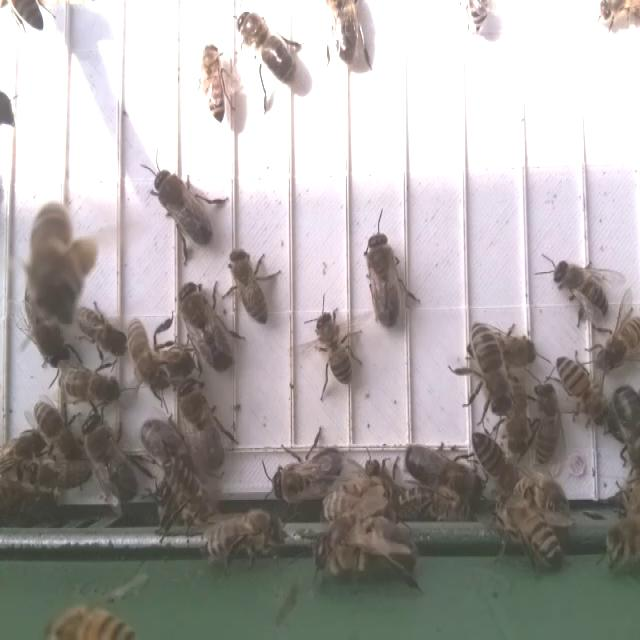Drone: (175, 274, 236, 376), (151, 164, 217, 253), (401, 438, 486, 507), (79, 410, 140, 506), (179, 371, 230, 481), (233, 6, 298, 90), (268, 444, 345, 505), (366, 228, 404, 333)
Worker: (469, 319, 513, 422), (553, 355, 610, 428), (122, 315, 171, 399), (227, 246, 274, 327), (551, 259, 607, 320), (58, 360, 122, 411), (315, 306, 353, 390), (470, 430, 519, 493), (71, 301, 126, 357), (530, 379, 562, 467), (197, 42, 230, 126), (596, 316, 640, 373)
